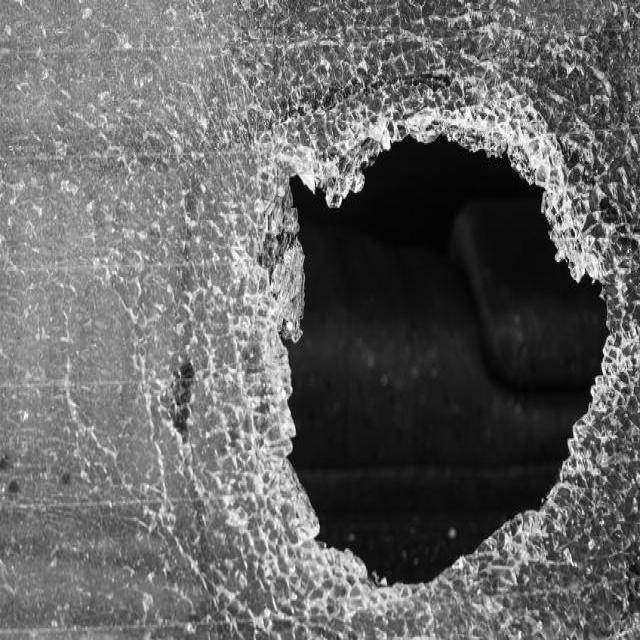Dent: (60, 339, 92, 455), (576, 56, 613, 107), (398, 104, 448, 138)
